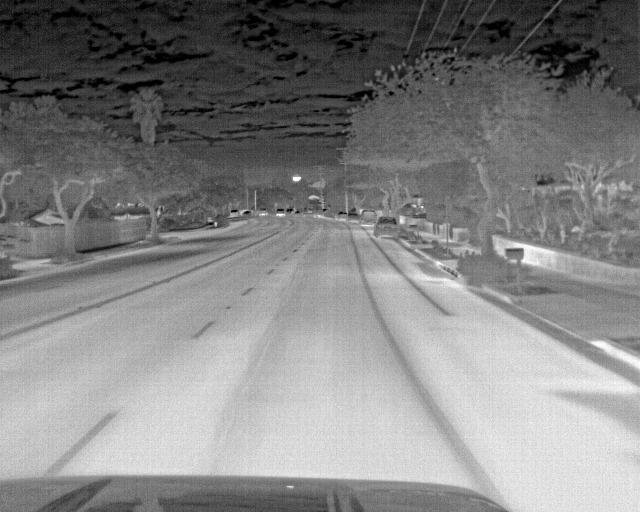car: (370, 217, 400, 239), (357, 209, 377, 227), (345, 210, 364, 224), (335, 208, 349, 222), (255, 206, 270, 218), (274, 206, 286, 220)
